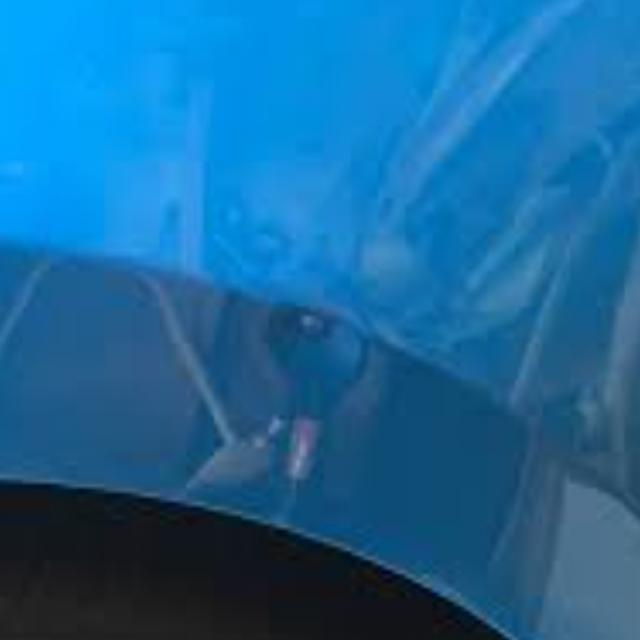dents: (244, 308, 418, 441)
